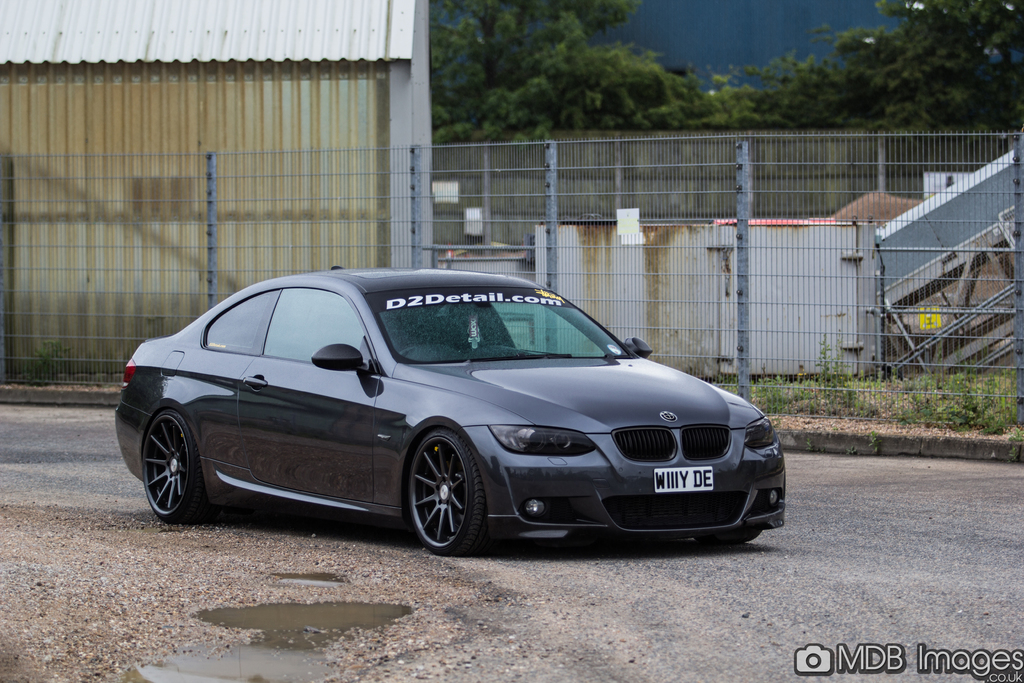Car: (117, 269, 769, 554)
